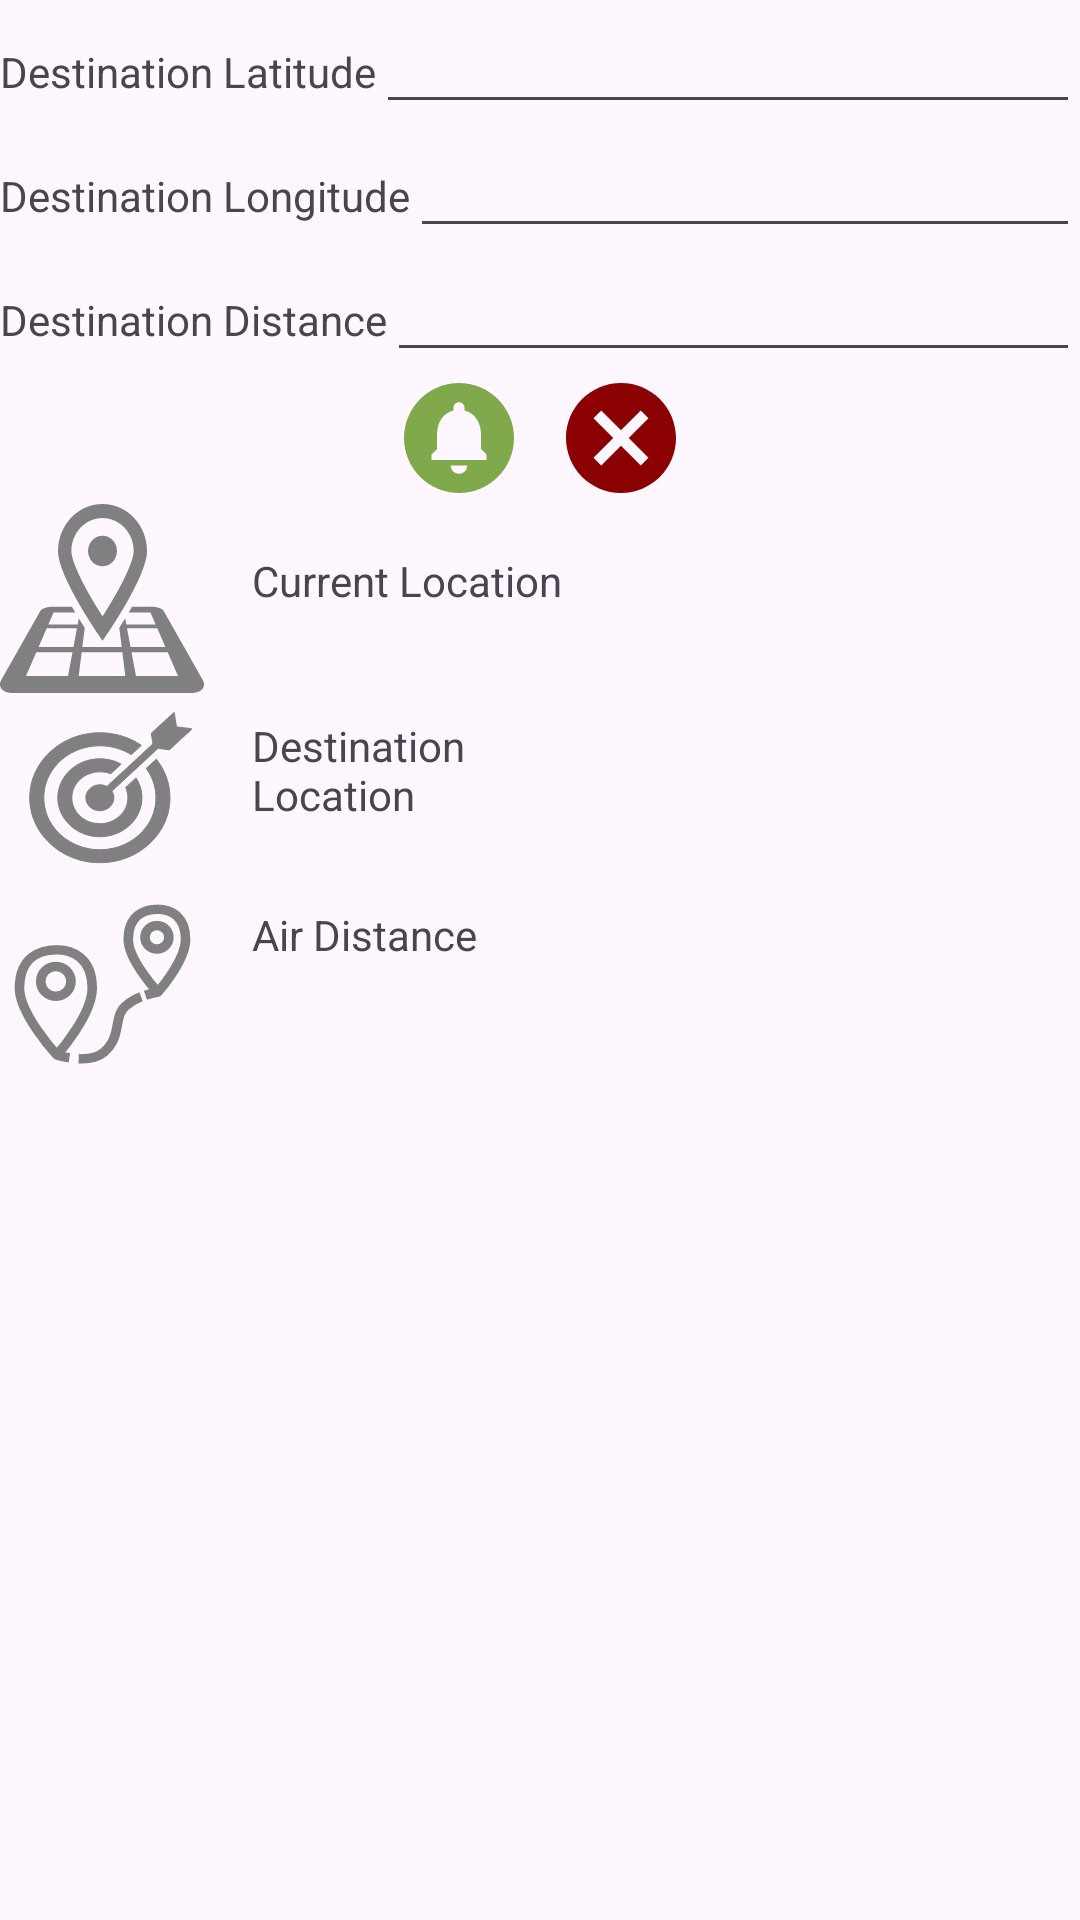

Named icons in this screenshot (1080×1920) and their bounding boxes, rect(x1, y1, x2, y2):
Clear: rect(566, 383, 676, 493)
distance between location: rect(14, 904, 191, 1064)
target: rect(29, 712, 192, 863)
